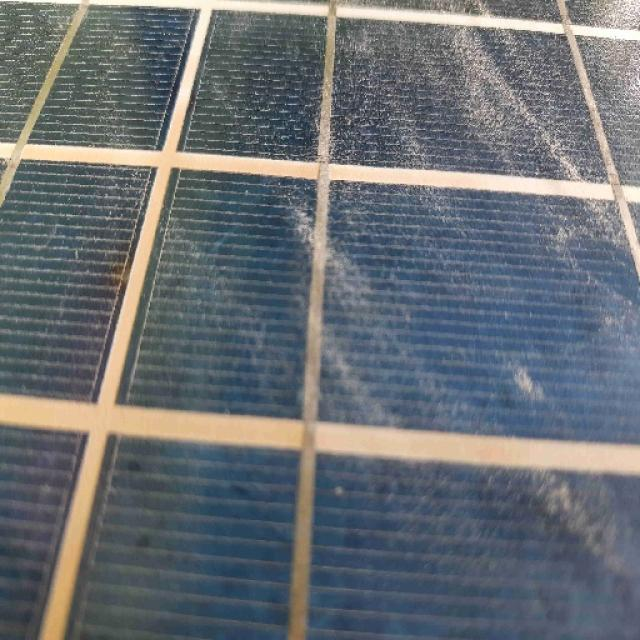Dirty: (0, 32, 640, 640)
